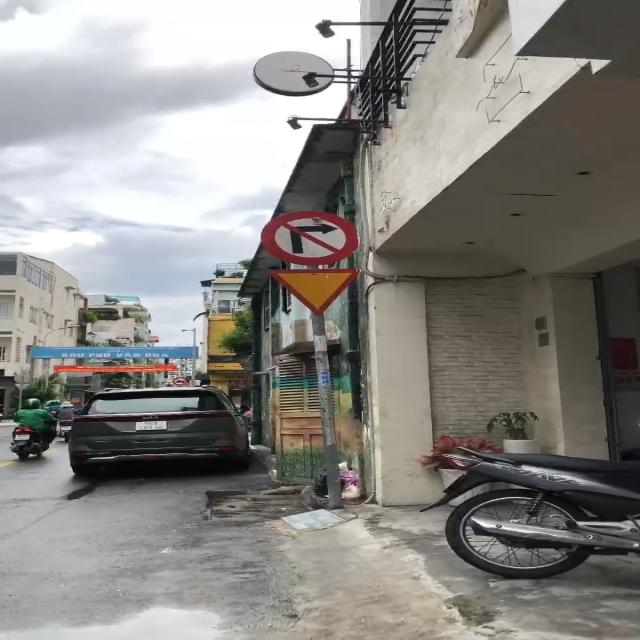Bien bao cam re phai: (261, 209, 368, 268)
Bien bao giao nhau voi duong uu tien: (260, 264, 367, 319)
